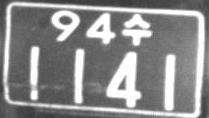1: (152, 54, 186, 112), (20, 45, 51, 101), (63, 48, 94, 104)
4: (105, 50, 141, 109), (85, 12, 117, 46)
9: (51, 9, 80, 42)
수: (121, 12, 153, 47)
